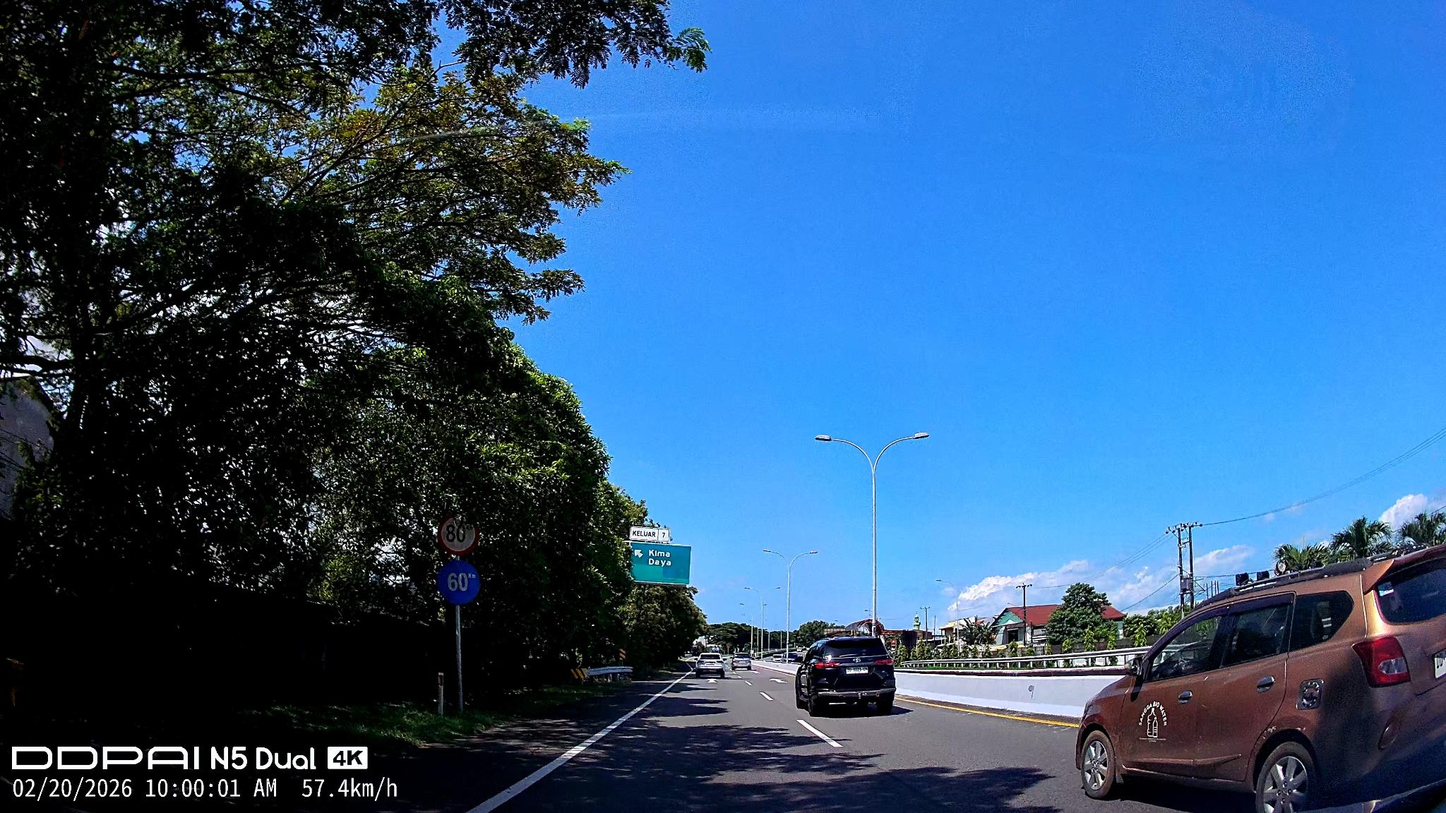rambu_teks: (628, 541, 692, 586)
